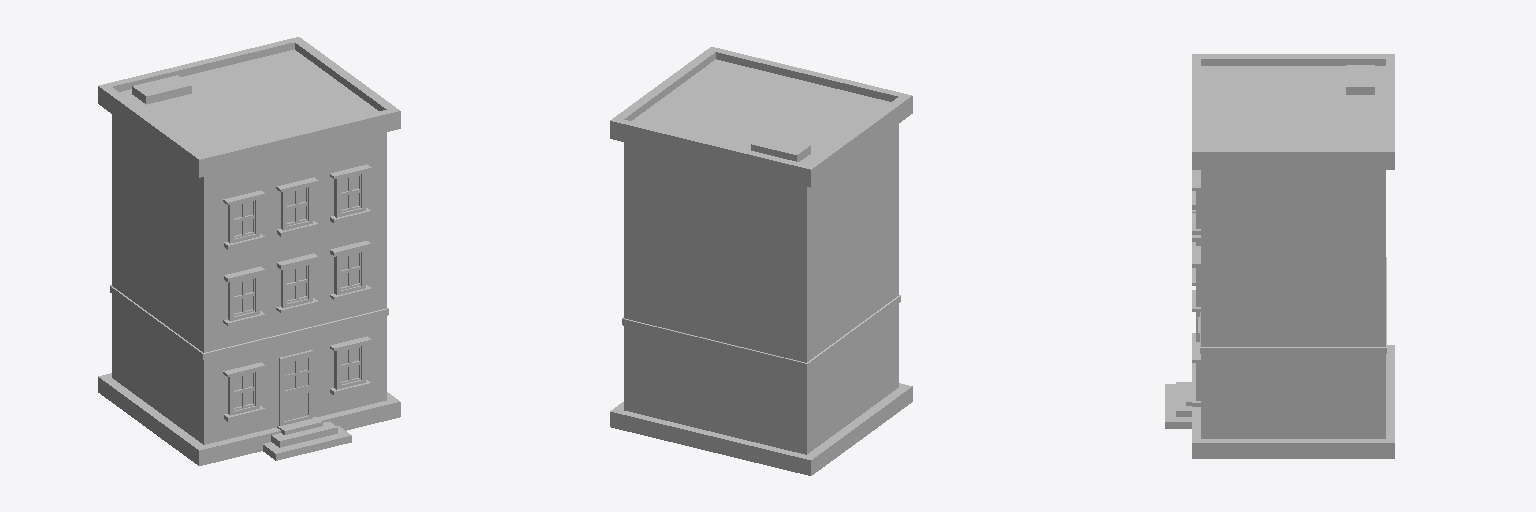
File: Building.obj
The picture shows the model from 3 angles: view 1: azimuth 30°, elevation 25°; view 2: azimuth 150°, elevation 25°; view 3: azimuth 270°, elevation 25°; orthographic projection.
Parts seen in each view (by area): view 1: Flat1_Cube; view 2: Flat1_Cube; view 3: Flat1_Cube.
Part boxes in pixels (x1,y1,x2,y2): Flat1_Cube: (98, 37, 400, 465); Flat1_Cube: (610, 47, 912, 475); Flat1_Cube: (1165, 54, 1394, 458).
Size of the model in its own units: 2.17 by 3.17 by 2.14.